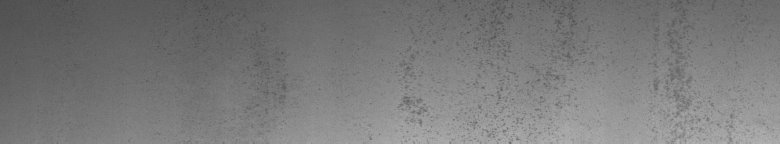ib: (397, 4, 584, 136)
